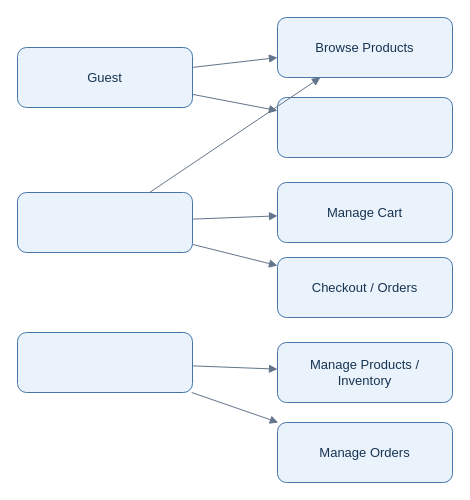
This 470x500 diagram has some shape labels left out. The box of each missing label's shape, as (x1, y1, x2, y2) in pixels:
Admin: (16, 332, 192, 392)
Customer: (16, 192, 192, 252)
Register / Login: (276, 96, 452, 158)
